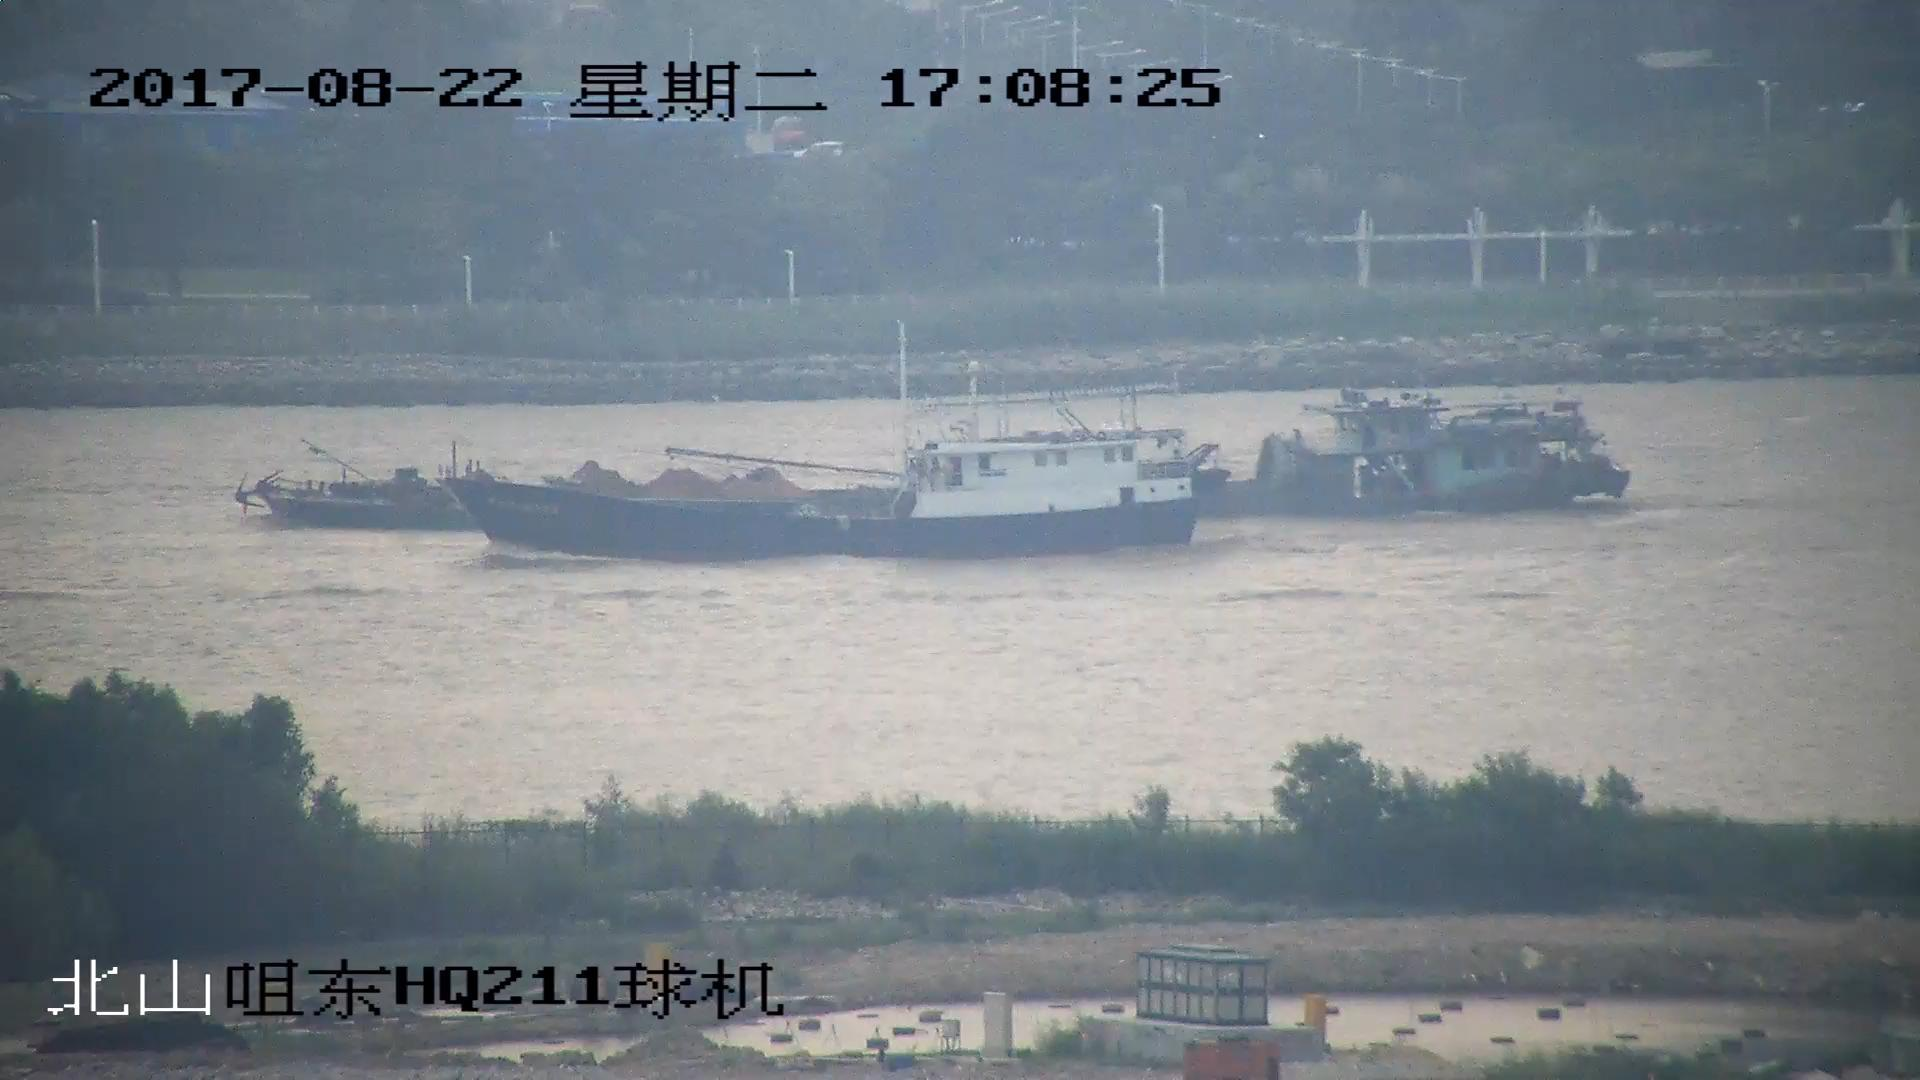Ship: (236, 392, 1630, 531), (454, 372, 1197, 560)
